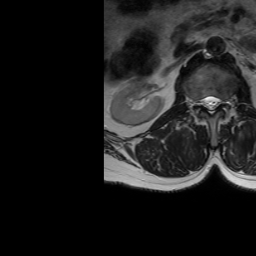CCS_normal: (207, 88, 214, 118)
LFS_stenosis: (221, 91, 228, 109)
LLS_normal: (214, 91, 221, 112)
RFS_normal: (194, 92, 200, 111)
RLS_normal: (200, 92, 207, 112)
